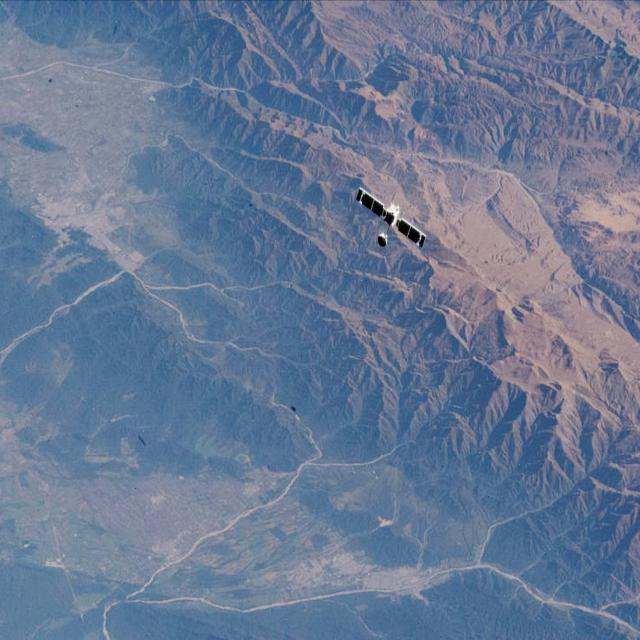medium_debris: (354, 186, 437, 258)
